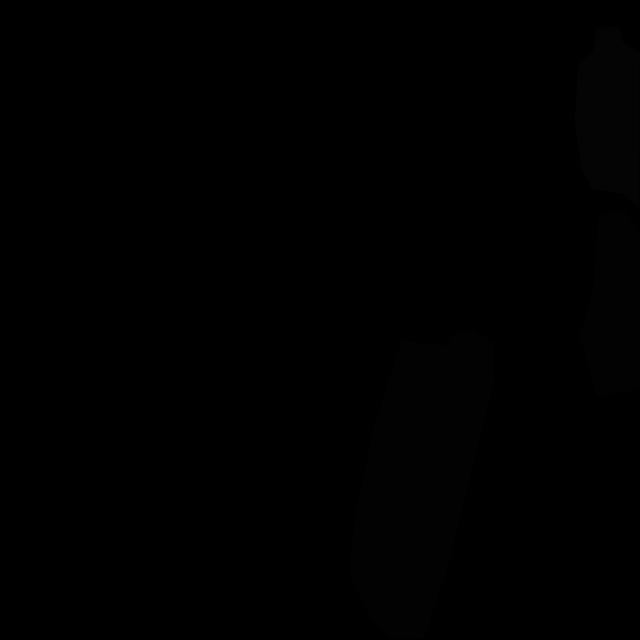cardboard: (350, 329, 494, 639), (580, 209, 640, 396)
soft_plastic: (574, 26, 640, 208)
